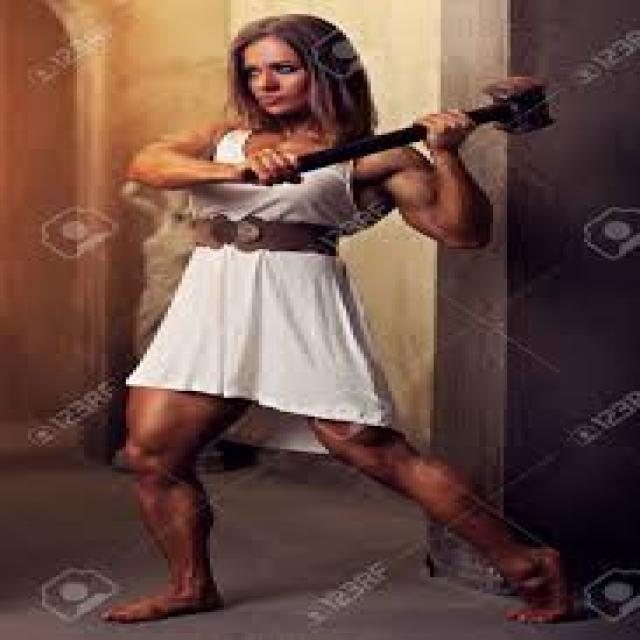hammer: (218, 68, 568, 200)
